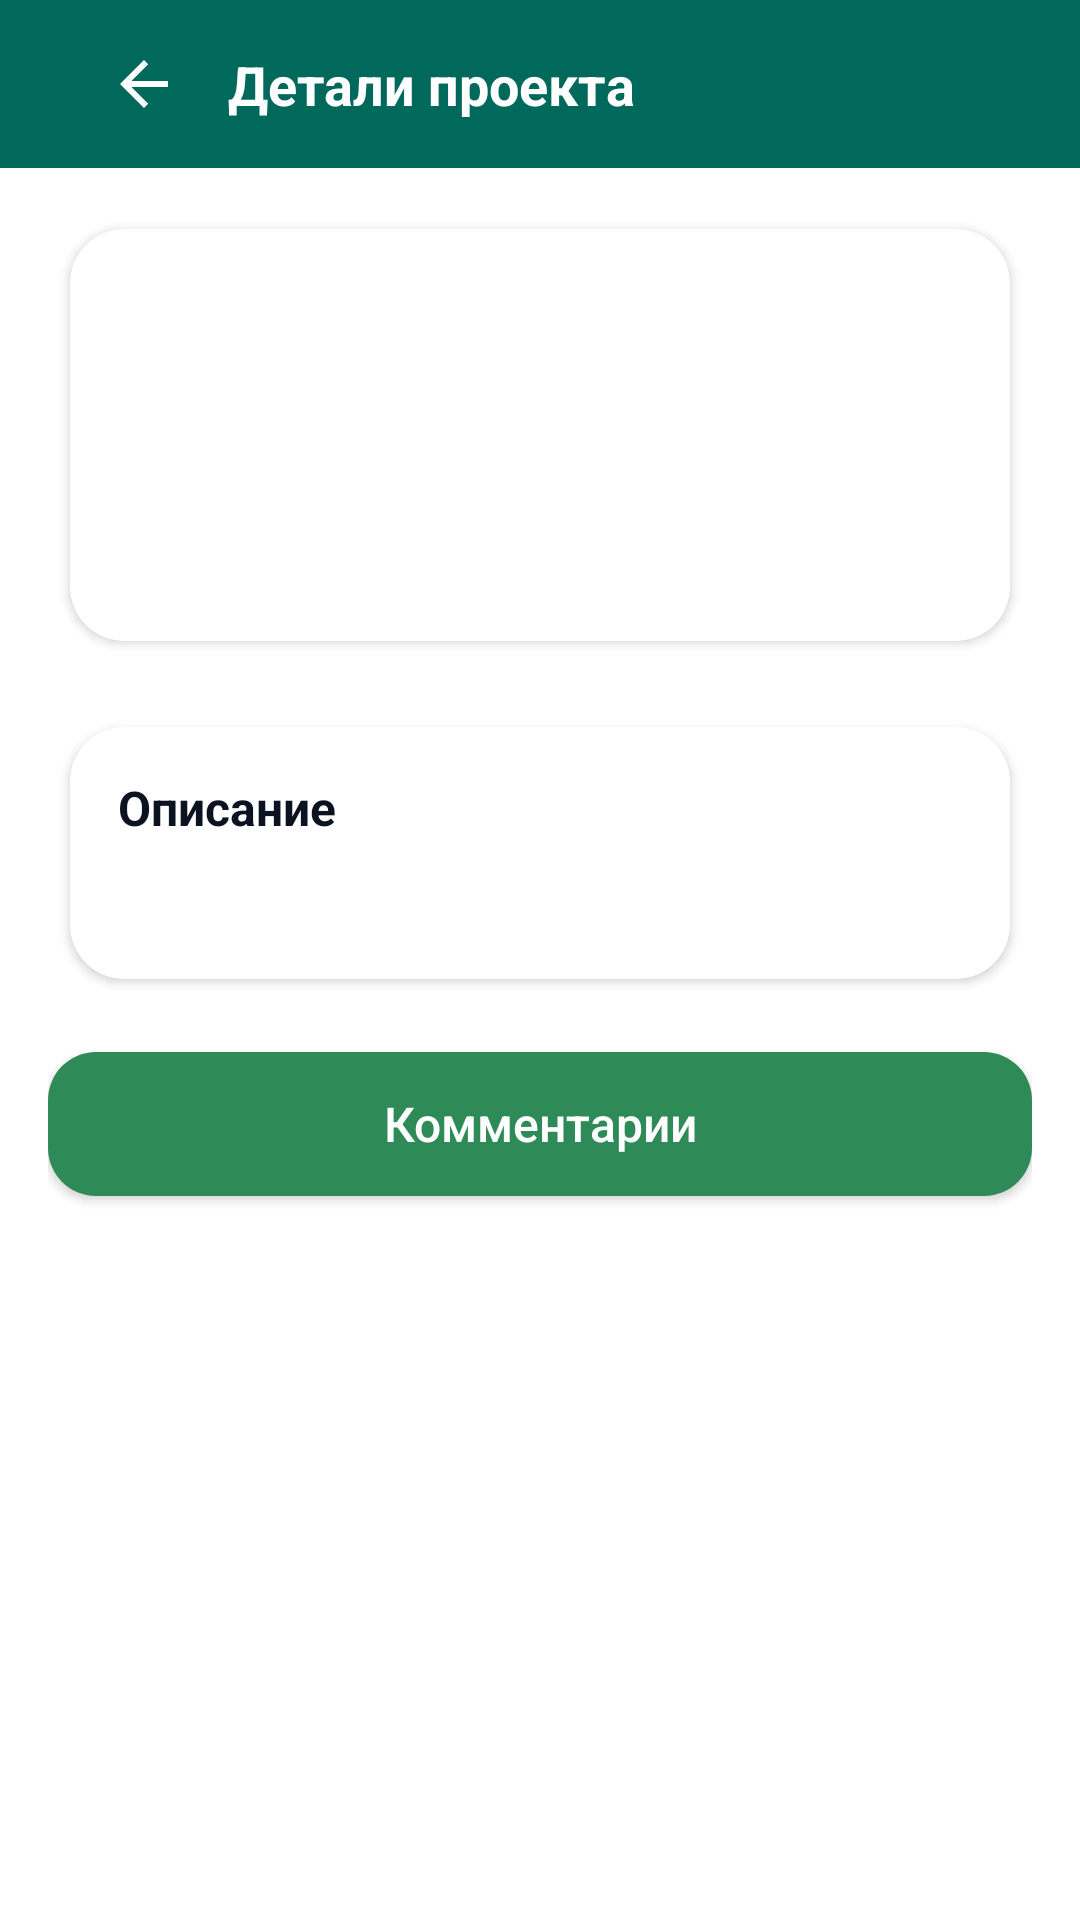

Icon bounding boxes for this 1080px×1920px phone screenshot, format (x1, y1, x2, y2):
back: (120, 60, 168, 108)
